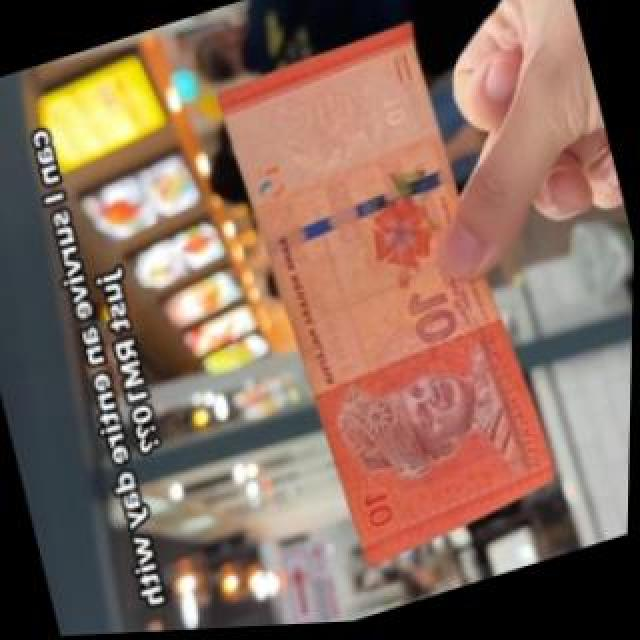10 Ringgit: (202, 4, 584, 591)
